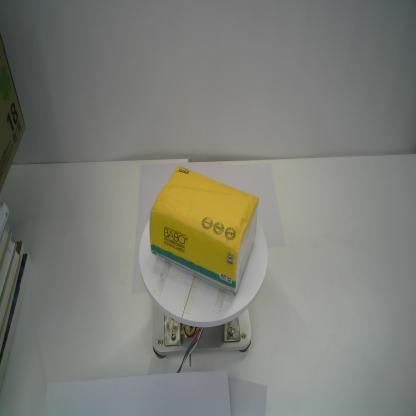Tissue: (147, 166, 260, 298)
